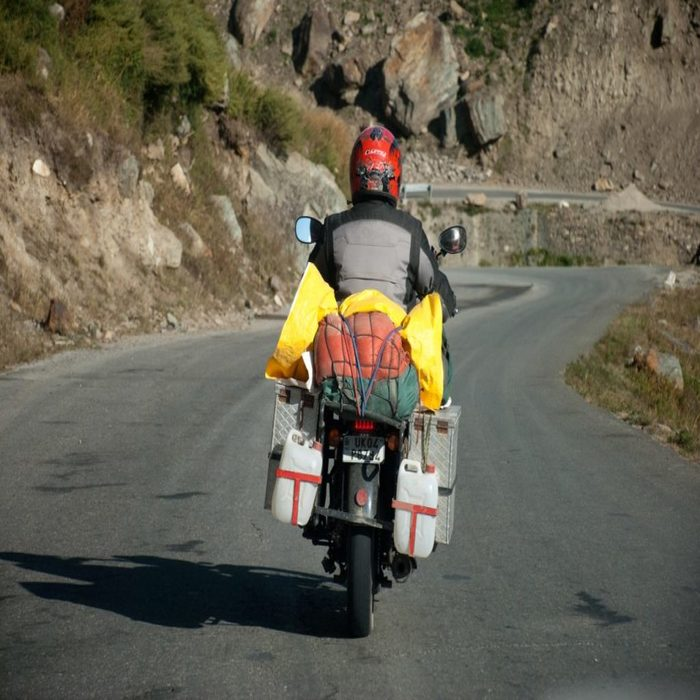h: (347, 123, 404, 206)
n: (341, 432, 387, 467)
